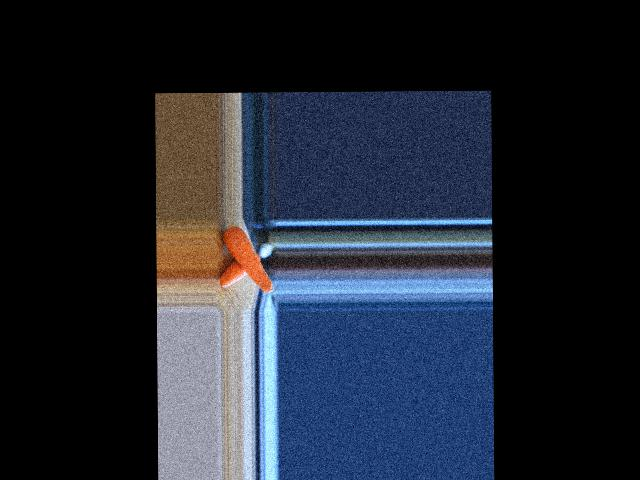carrot: (219, 251, 260, 285)
